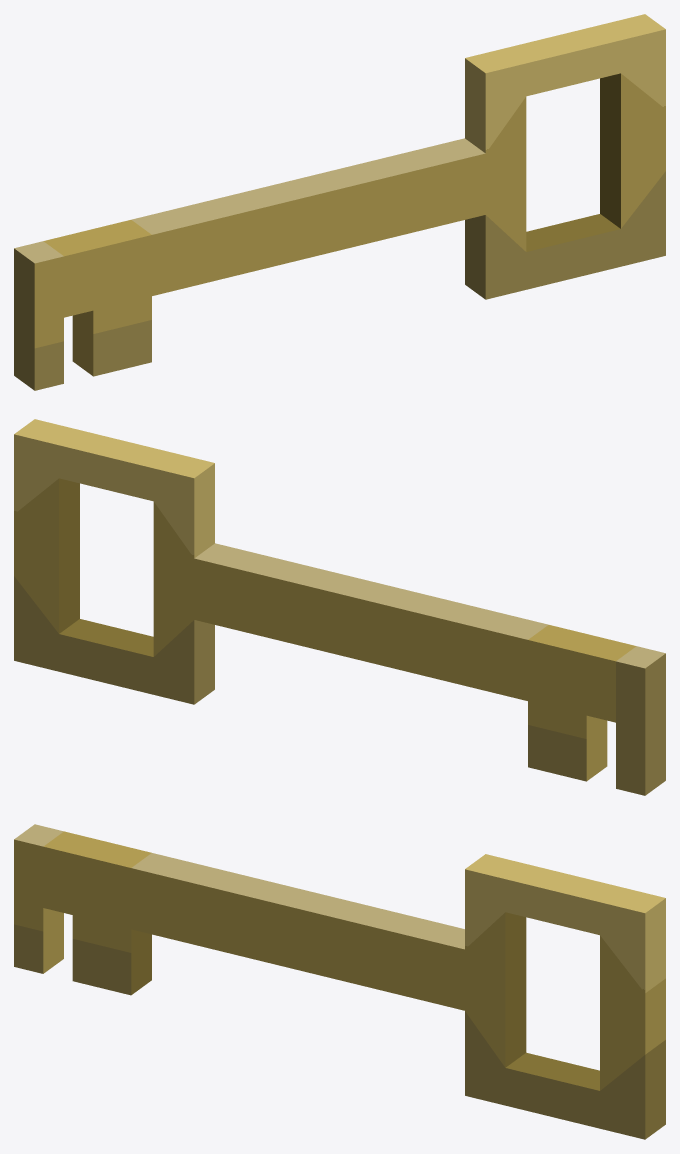
The model's file is Key.fbx.
3 views of the same model, one above another, from view 1: azimuth 30°, elevation 25°; view 2: azimuth 150°, elevation 25°; view 3: azimuth 330°, elevation 25° (orthographic).
Parts seen in each view (by area): view 1: cube; view 2: cube; view 3: cube.
Boxes of the visible parts, bbox=[...] form: cube: bbox=[14, 14, 665, 390]; cube: bbox=[14, 419, 665, 795]; cube: bbox=[14, 824, 665, 1139].
Bounding box in the file's own units: 43.75 × 15 × 2.5.
Materials: 1 (1 with a texture image).
